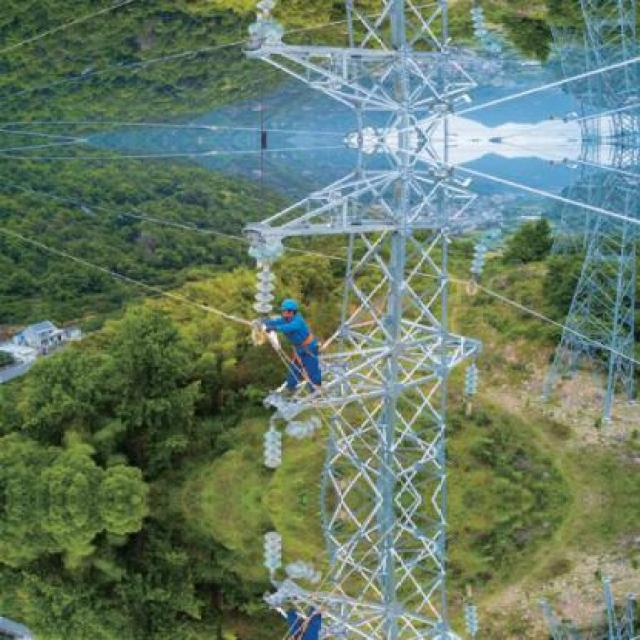helmet: (275, 297, 300, 318)
